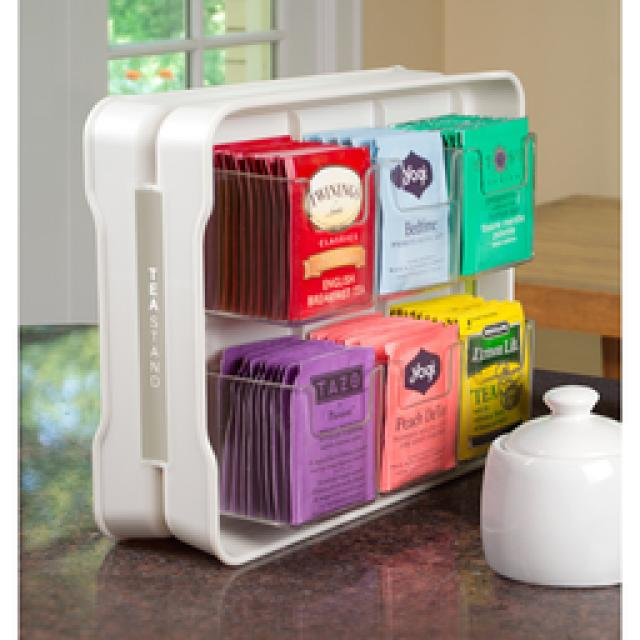tea-bags: (208, 295, 530, 522), (205, 115, 532, 320)
